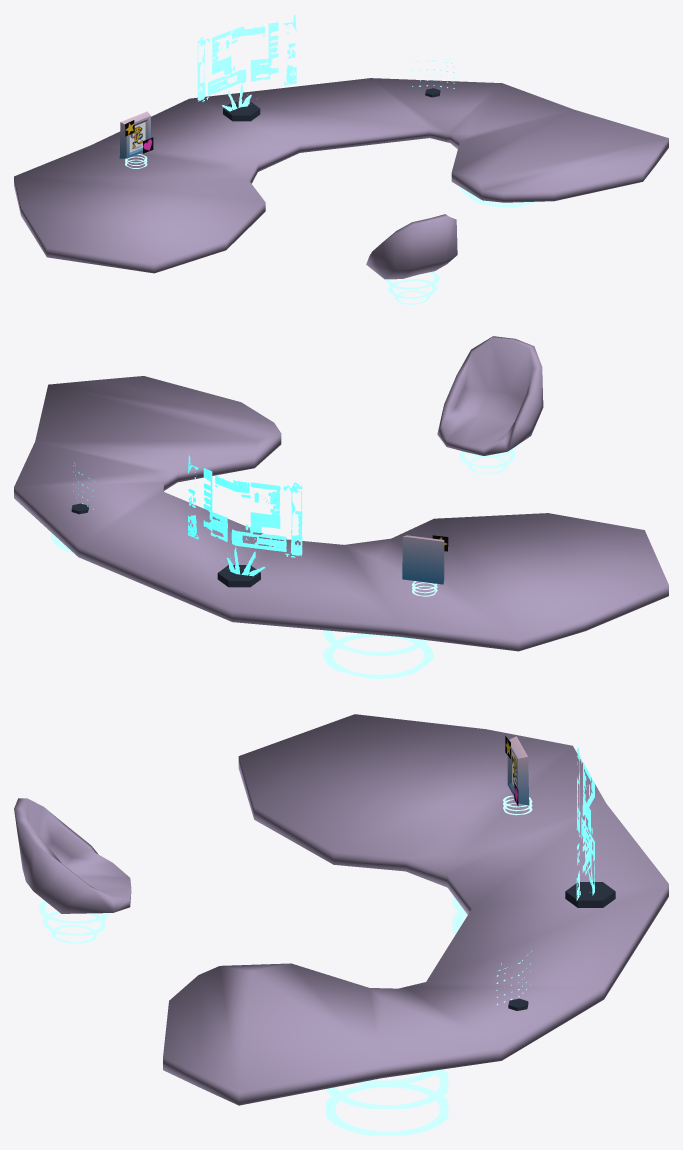
File: office_desk_setup.fbx
The picture shows the model from 3 angles, top to bottom: view 1: azimuth 30°, elevation 25°; view 2: azimuth 150°, elevation 25°; view 3: azimuth 270°, elevation 25°; orthographic projection. The views are drawn at different scales.
Parts seen in each view (by area): view 1: table, chair_rings, monitor, frame; view 2: table, chair_rings, monitor, frame; view 3: table, chair_rings, monitor, frame.
Part boxes in pixels (<box>): table: <box>14,78,668,273</box>; chair_rings: <box>366,214,457,304</box>; monitor: <box>197,14,296,121</box>; frame: <box>119,111,150,158</box>; table: <box>14,376,668,678</box>; chair_rings: <box>437,336,543,474</box>; monitor: <box>188,455,302,587</box>; frame: <box>402,535,444,584</box>; table: <box>163,714,668,1135</box>; chair_rings: <box>14,798,131,943</box>; monitor: <box>565,747,615,907</box>; frame: <box>507,736,529,805</box>.
Bounding box in the file's own units: 8.18 × 2.1 × 5.98.
Materials: 5 (2 with a texture image).
